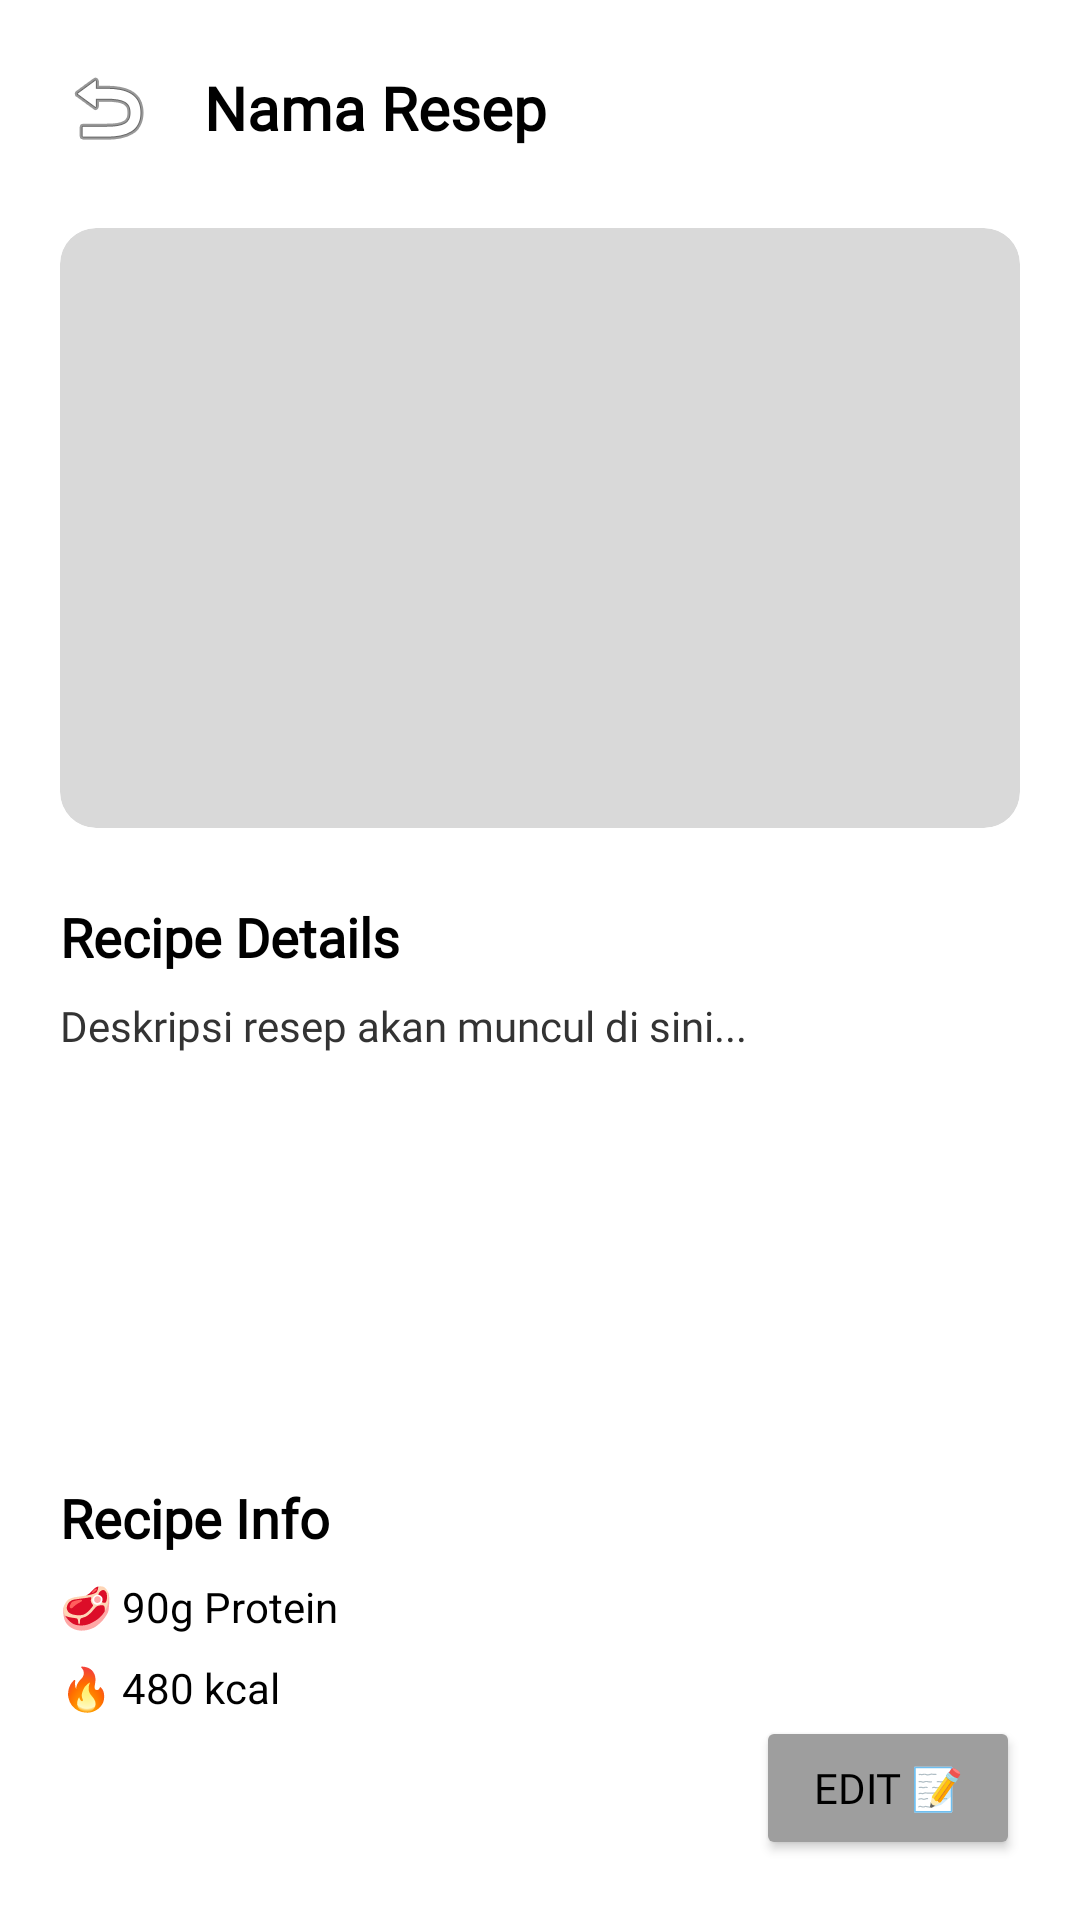

Screen size 1080px×1920px. Icon name, then its box in pixels as (x1, y1, x2, y2):
revert: (75, 77, 144, 140)
